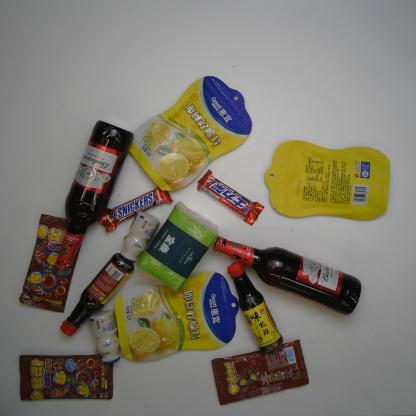Alcohol: (52, 118, 136, 272), (212, 233, 363, 316)
Candy: (210, 338, 310, 407), (20, 209, 86, 312), (18, 353, 115, 402)
Chocolate: (195, 167, 266, 227), (99, 185, 174, 234)
Dried Fruit: (129, 75, 254, 193), (113, 270, 240, 364), (262, 139, 392, 223)
Milk: (112, 210, 161, 266), (88, 309, 122, 366)
Seasoner: (58, 250, 136, 340), (225, 260, 284, 356)
Tissue: (135, 198, 221, 297)
